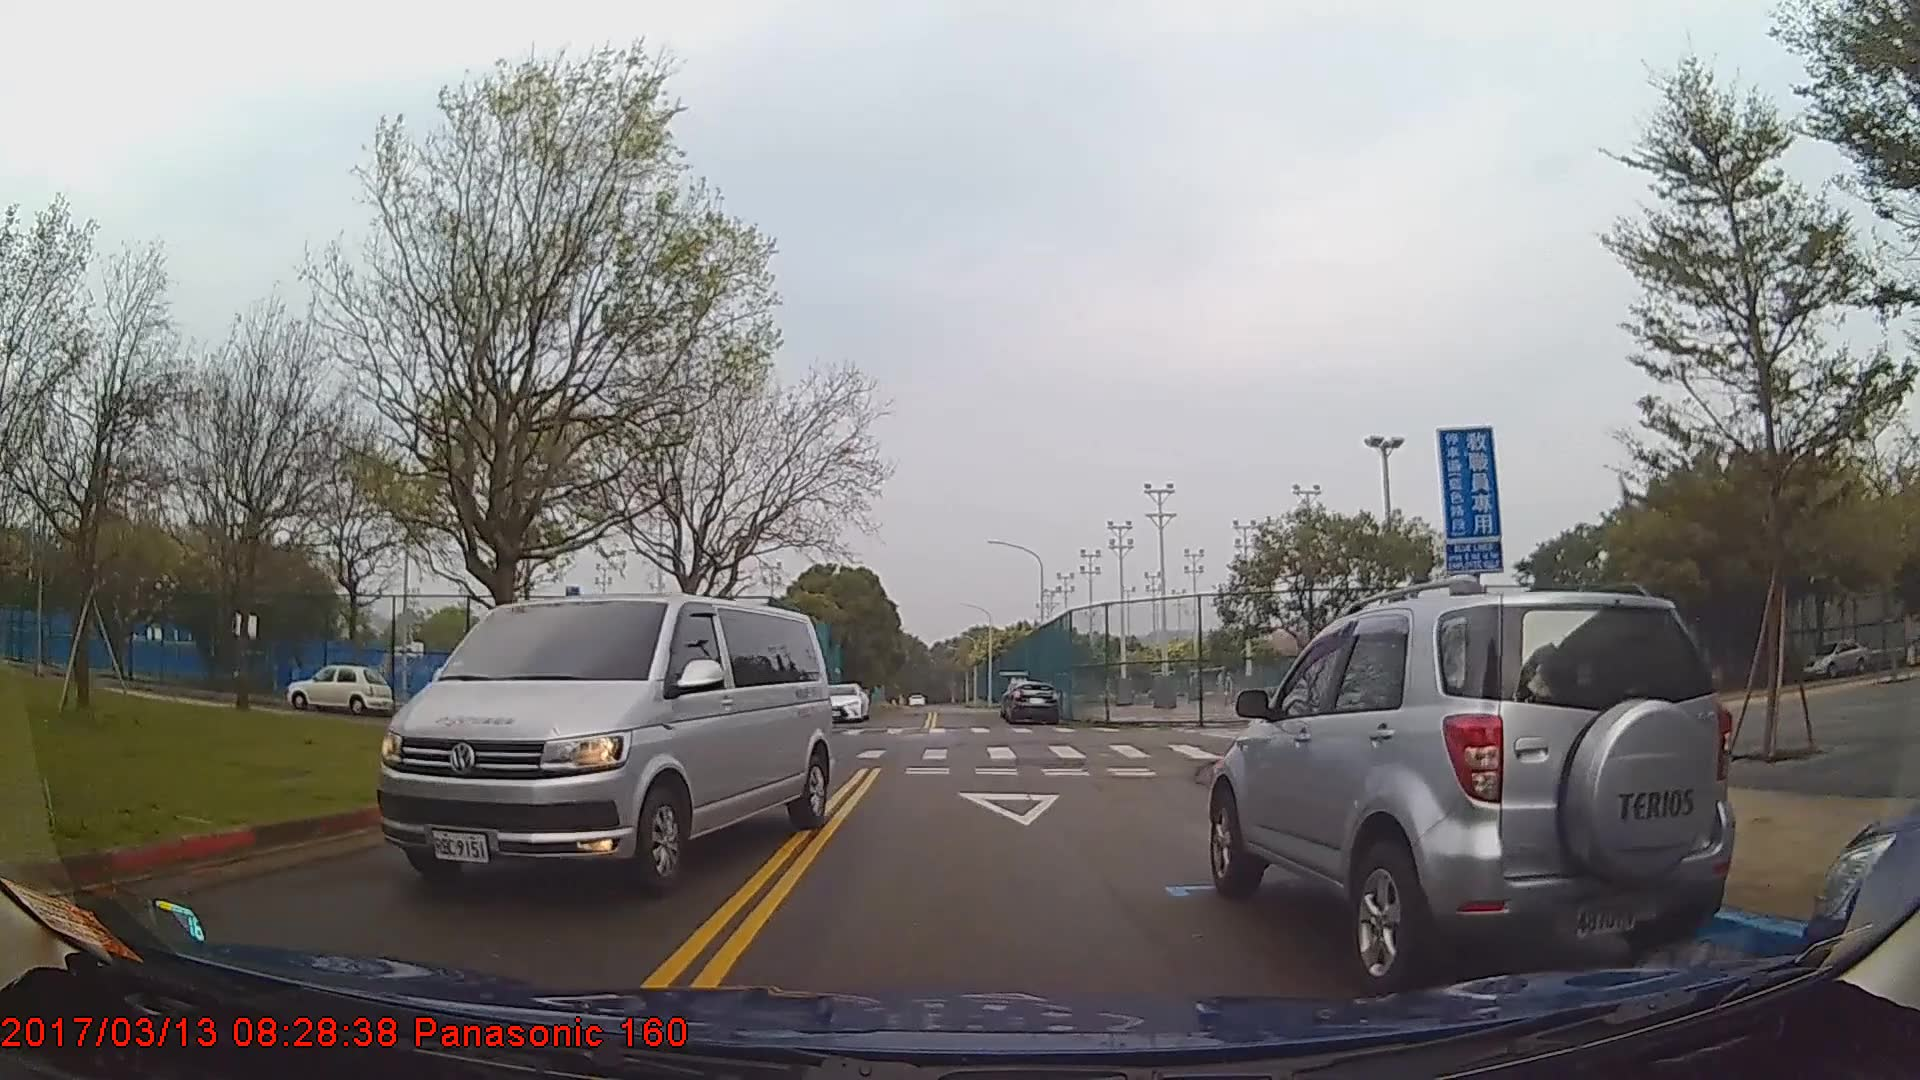vehicle: (1205, 588, 1734, 994), (371, 595, 833, 898), (285, 665, 386, 713), (1801, 638, 1870, 680), (1004, 679, 1060, 724), (815, 682, 866, 723)
